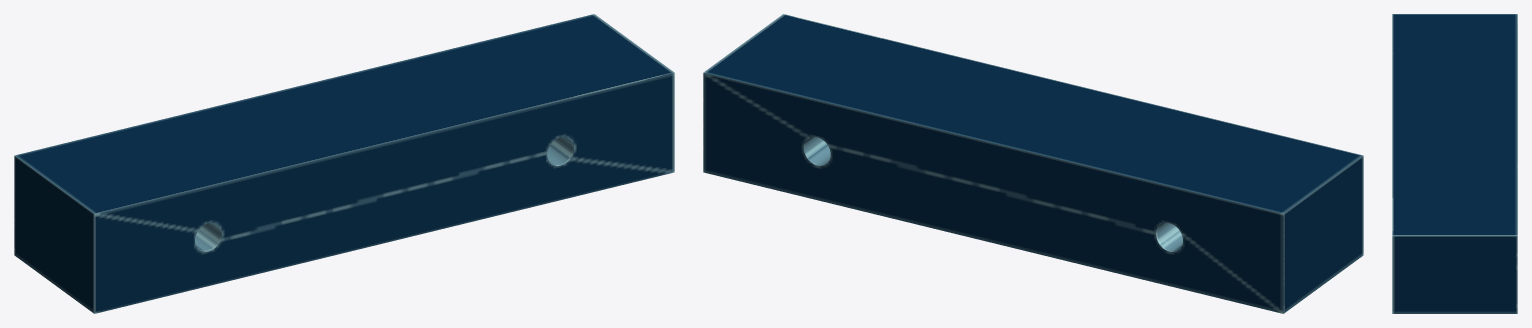
The model's file is Mold3-Spacer block-M.glb.
3 views of the same model, side by side, from view 1: azimuth 30°, elevation 25°; view 2: azimuth 150°, elevation 25°; view 3: azimuth 270°, elevation 25° (orthographic). The views are drawn at different scales.
Parts seen in each view (by area): view 1: tasseau; view 2: tasseau; view 3: tasseau.
Part boxes in pixels (x1,y1,x2,y2): tasseau: (14, 14, 674, 313); tasseau: (703, 14, 1363, 313); tasseau: (1392, 14, 1517, 313).
Bounding box in the file's own units: 11.58 × 1.9 × 2.77.
Materials: 1 (1 with a texture image).
